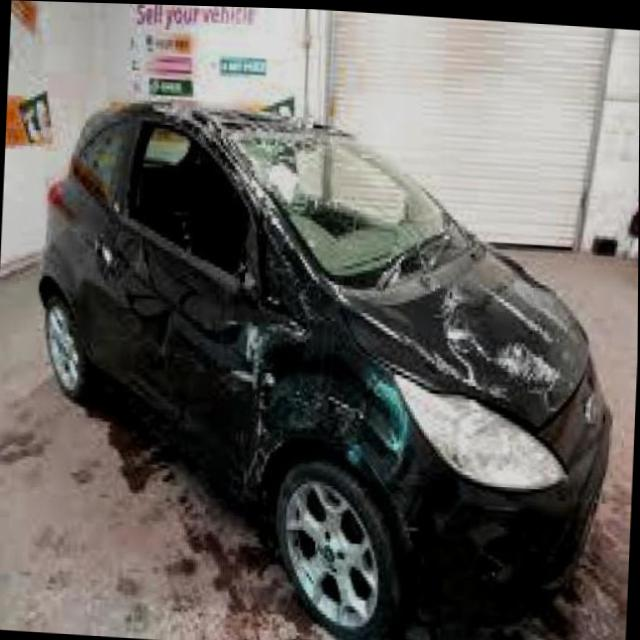Car-Damage: (158, 102, 587, 521)
